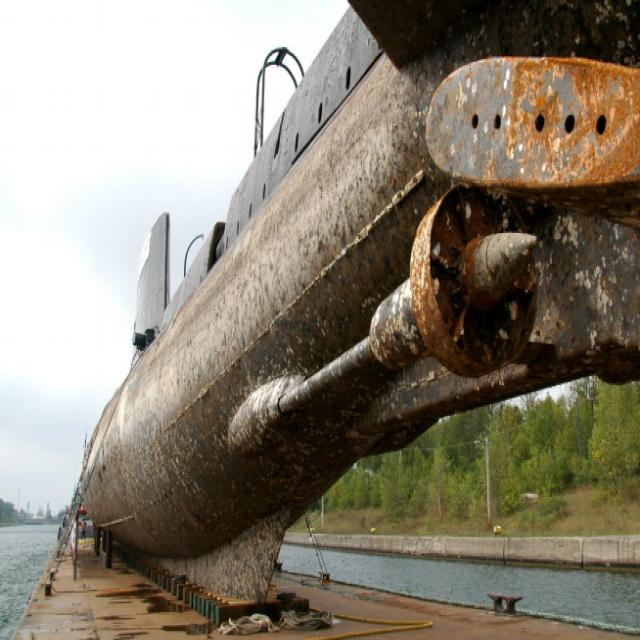submarine: (87, 1, 640, 554)
